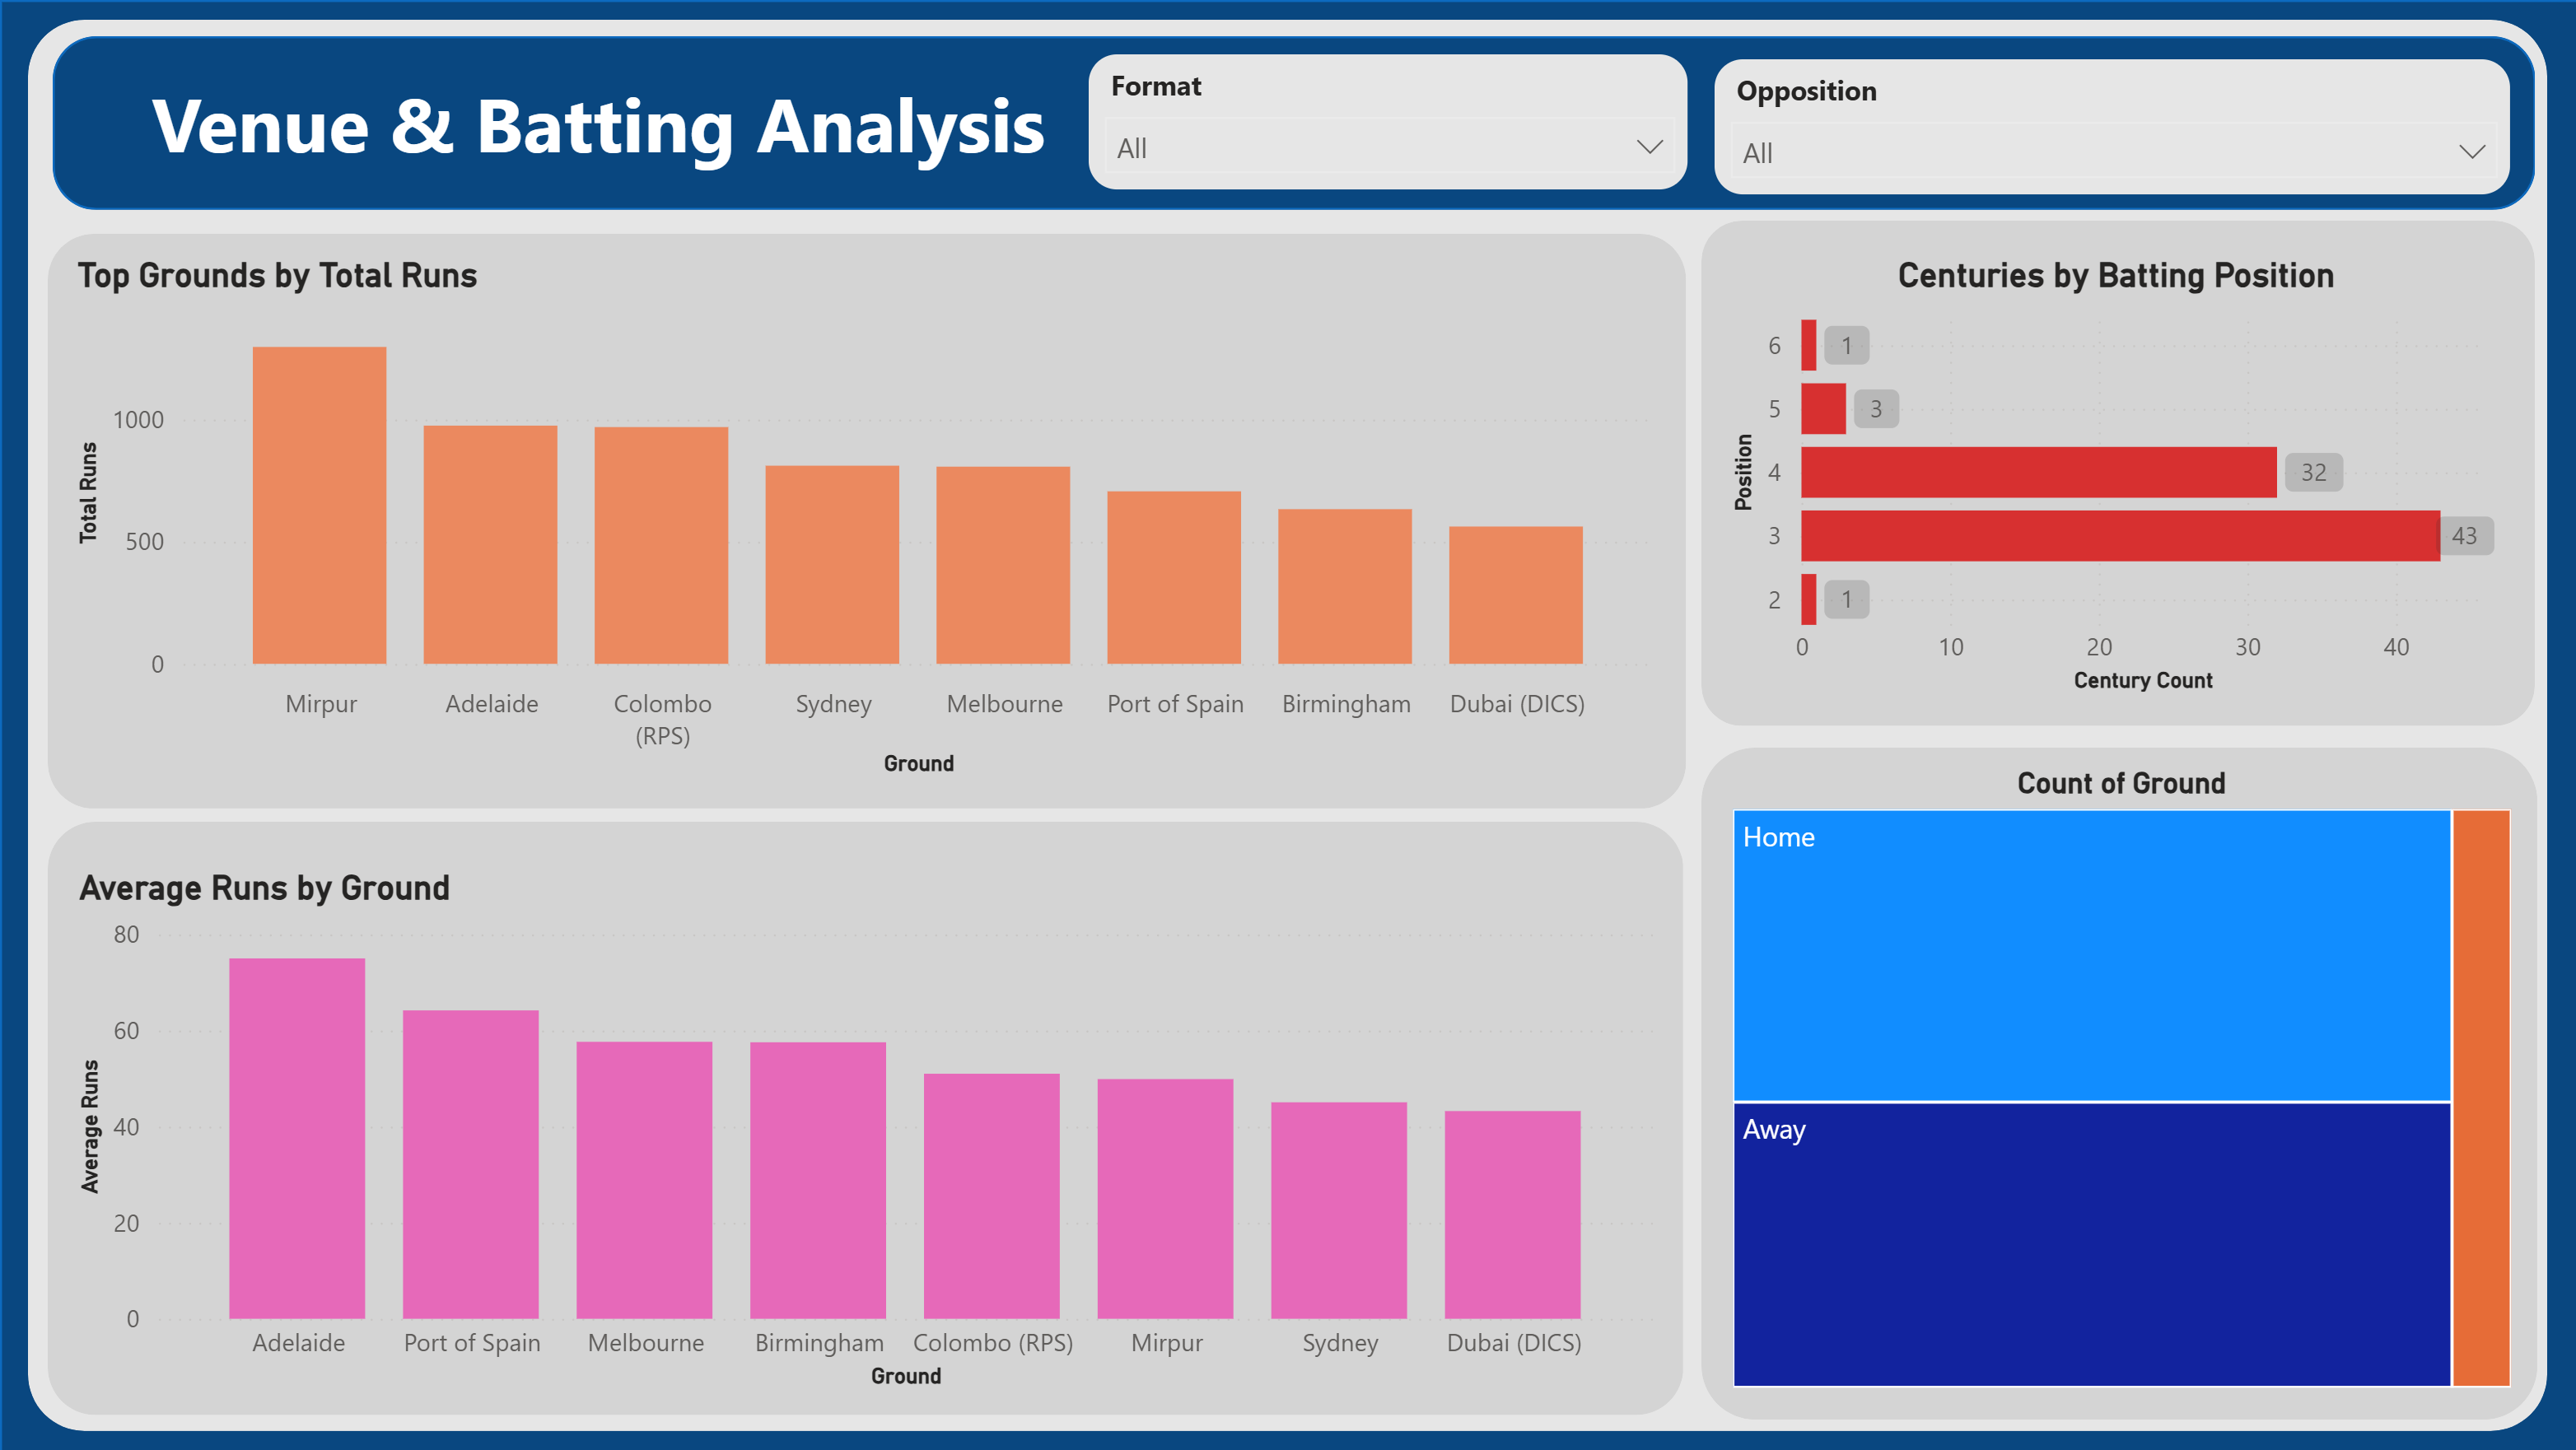

The page's visual inventory and layout, read from the dashboard file:
{"tool":"powerbi","page":{"name":"4","canvas":[1280,720],"ordinal":3},"visuals":[{"type":"shape","box":[0,0,1279.7,720.3],"z":0},{"type":"shape","box":[13.9,10.1,1249.4,700],"z":1000},{"type":"shape","box":[23.4,407.6,811.2,294.3],"z":2000},{"type":"shape","box":[844,109.3,413.3,250.7],"z":3000},{"type":"shape","box":[23.4,115.9,812.5,285.2],"z":4000},{"type":"shape","box":[844,370.7,414.7,333.3],"z":5000},{"type":"clusteredColumnChart","title":"Top Grounds by Total Runs","fields":{"Category":["Sheet2.Ground"],"Y":["Sum(Sheet2.Runs)"]},"box":[33.3,126.7,792,262.7],"z":6000},{"type":"shape","box":[26.1,18.1,1231.2,86.2],"z":7000},{"type":"textbox","box":[70.3,29.9,468.8,61.2],"z":8000},{"type":"slicer","fields":{"Values":["Sheet1 (2).Format"]},"box":[539.7,27.2,297,66.9],"z":9000},{"type":"slicer","fields":{"Values":["Sheet1 (2).Opposition"]},"box":[850.3,29.5,394.5,66.9],"z":10000},{"type":"clusteredColumnChart","title":"Average Runs by Ground","fields":{"Category":["Sheet2.Ground"],"Y":["Avg(Sheet2.Runs)"]},"box":[34.7,430.7,790.7,262.7],"z":11000},{"type":"barChart","title":"Centuries by Batting Position","fields":{"Category":["Sheet1.Position"],"Y":["CountNonNull(Sheet1.Century)"]},"box":[854.7,126.7,390.7,221.3],"z":12000},{"type":"treemap","fields":{"Group":["Sheet1.Ground"],"Values":["CountNonNull(Sheet1.Ground)"]},"box":[854.7,380,396,313.3],"z":13000}]}

Visuals, with their boxes in screenshot pixels (x1, y1, x2, y2), scaled from the page's 1280x720 canvas onto the 2576x1450 screenshot:
shape: <region>0, 0, 2575, 1449</region>
shape: <region>28, 21, 2542, 1430</region>
shape: <region>47, 821, 1680, 1414</region>
shape: <region>1699, 220, 2531, 725</region>
shape: <region>47, 233, 1682, 808</region>
shape: <region>1699, 747, 2533, 1418</region>
"Top Grounds by Total Runs" clusteredColumnChart: <region>67, 255, 1661, 784</region>
shape: <region>53, 36, 2531, 210</region>
textbox: <region>142, 60, 1085, 184</region>
slicer - Sheet1 (2).Format: <region>1086, 55, 1684, 189</region>
slicer - Sheet1 (2).Opposition: <region>1711, 59, 2505, 194</region>
"Average Runs by Ground" clusteredColumnChart: <region>70, 867, 1661, 1396</region>
"Centuries by Batting Position" barChart: <region>1720, 255, 2506, 701</region>
treemap - Sheet1.Ground x CountNonNull(Sheet1.Ground): <region>1720, 765, 2517, 1396</region>
